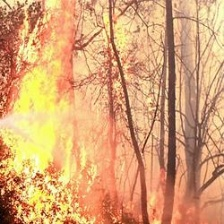fire: (1, 3, 89, 223)
